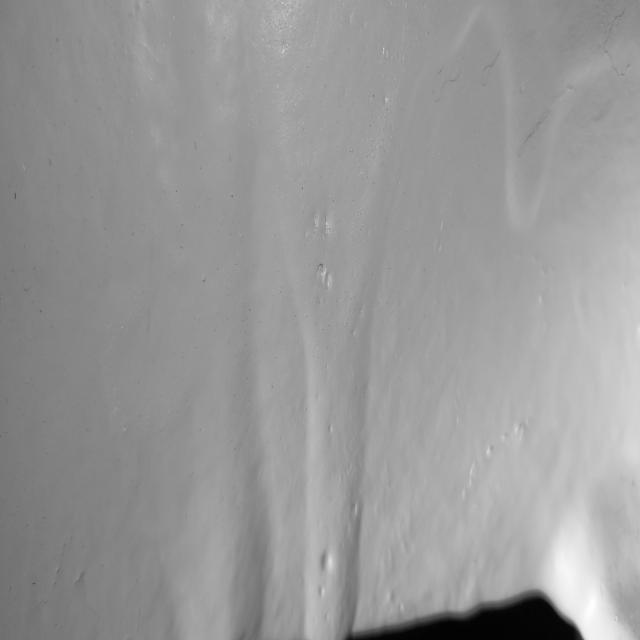paint drips: (272, 140, 385, 636)
